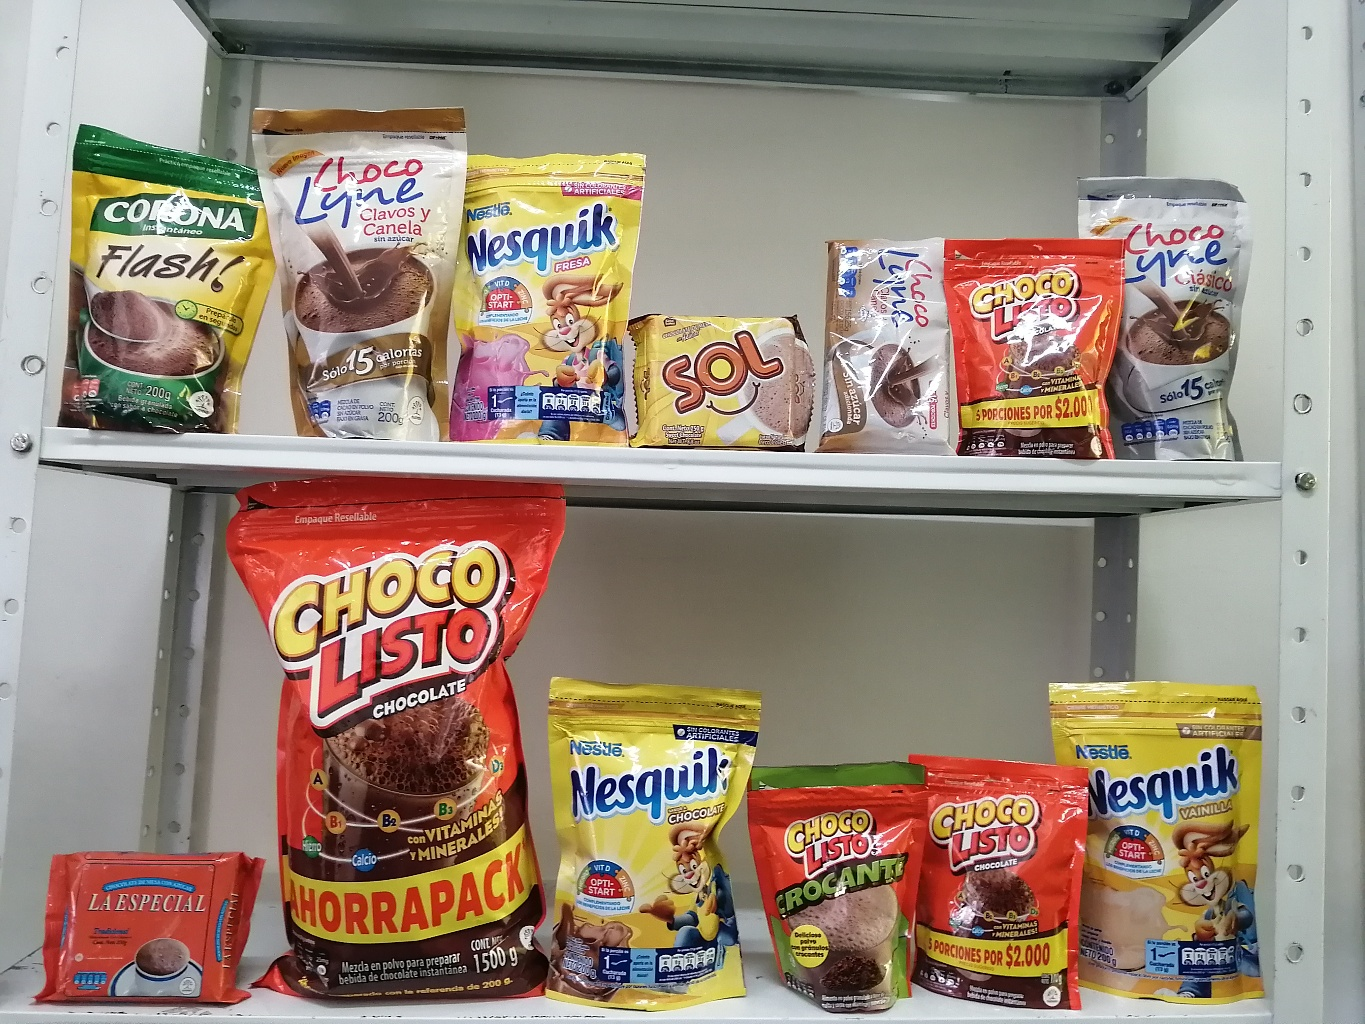COL0170102DYP10000: (741, 743, 936, 1016)
COL0170103DYP1,500: (197, 468, 575, 1011)
COL0170303DYP20000: (507, 643, 786, 1022)
COL0170305DYP20000: (420, 118, 662, 451)
COL0170306DYP20000: (1022, 657, 1309, 1020)
